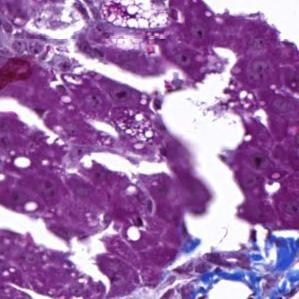ballooning: (92, 3, 174, 31)
